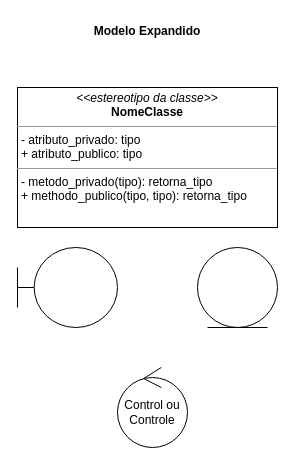
Some shapes in this 295 by 465 pixel diagram are drawn without their labels. Here are the shapes that lost their labels. From the top down, the centre of each, then its label:
At [67,287]: "Boundary ou Fronteira".
At [237,287]: "Entity ou Persistência".
